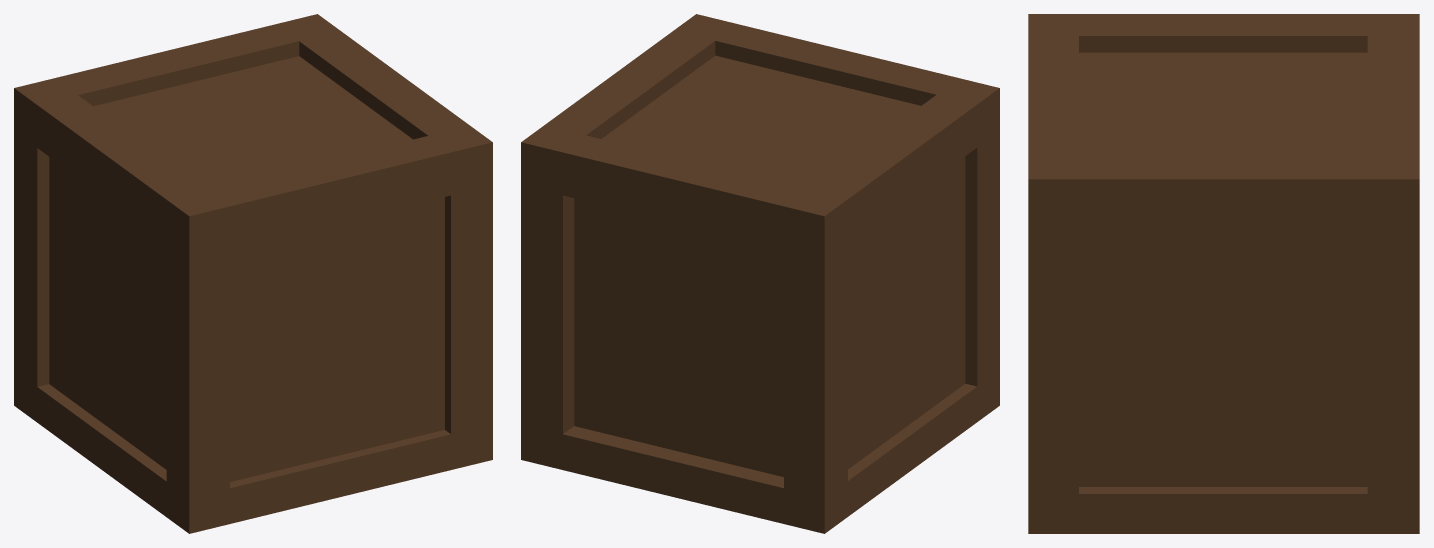
File: Crate_01.fbx
The picture shows the model from 3 angles, left to right: view 1: azimuth 30°, elevation 25°; view 2: azimuth 150°, elevation 25°; view 3: azimuth 270°, elevation 25°; orthographic projection. The views are drawn at different scales.
Visible parts, largest first — view 1: Crate; view 2: Crate; view 3: Crate.
Part boxes in pixels (box(x1,y1,x2,y2)): Crate: box(14, 14, 492, 533); Crate: box(521, 14, 999, 533); Crate: box(1028, 14, 1419, 533).
Bounding box in the file's own units: 5.66 × 5.66 × 5.66.
